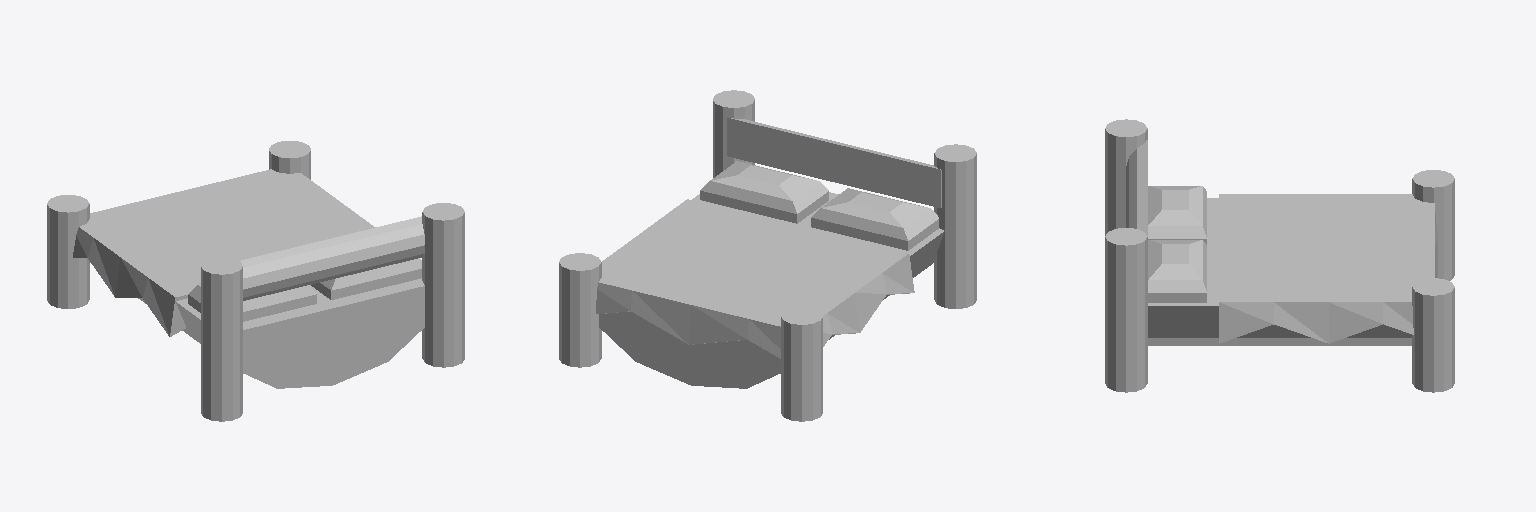
Rendered from bed_double_solargrove.obj.
3 views of the same model, side by side, from view 1: azimuth 30°, elevation 25°; view 2: azimuth 150°, elevation 25°; view 3: azimuth 270°, elevation 25° (orthographic).
Visible parts, largest first — view 1: bed_solar_grove_double; view 2: bed_solar_grove_double; view 3: bed_solar_grove_double.
Part boxes in pixels (bbox=[...]): bed_solar_grove_double: bbox=[47, 141, 464, 421]; bed_solar_grove_double: bbox=[559, 90, 976, 421]; bed_solar_grove_double: bbox=[1105, 119, 1454, 392].
Bounding box in the file's own units: 1.4 × 0.76 × 1.64.